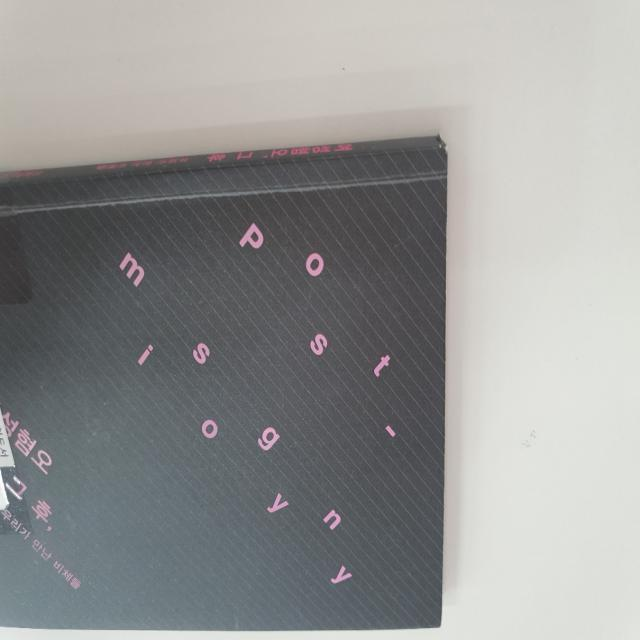Ripped: (429, 124, 458, 164)
